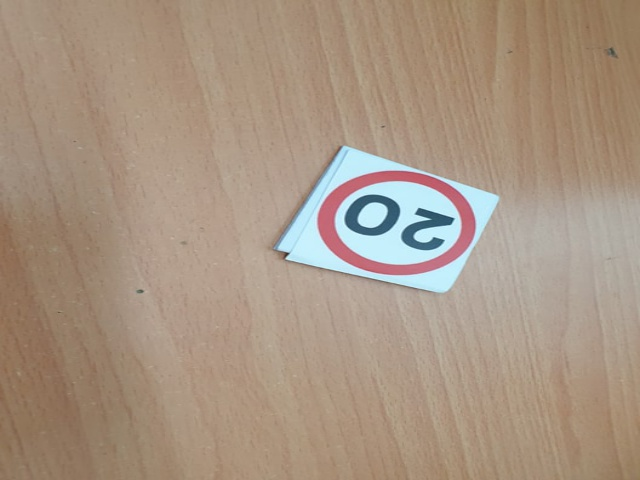Limit 20: (318, 173, 480, 278)
